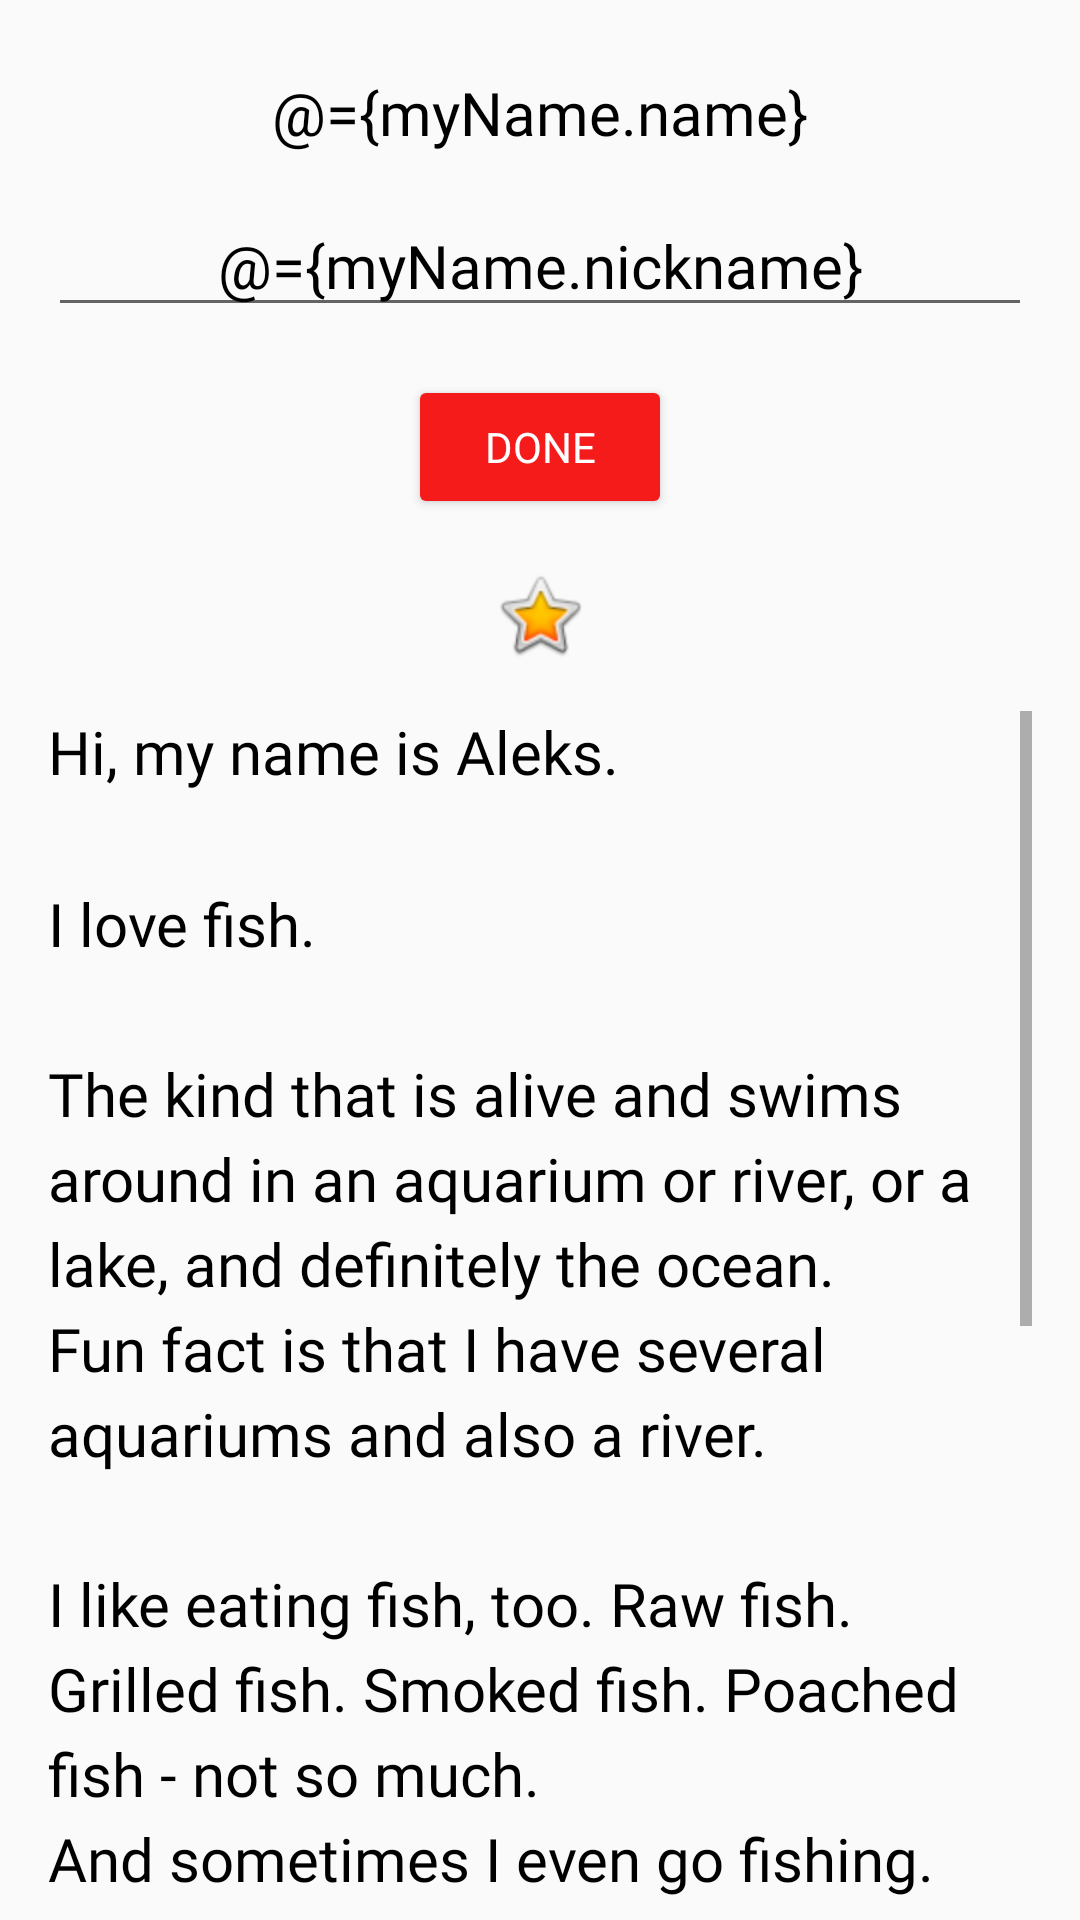

Named icons in this screenshot (1080px x 1920px) and their centers, (x,y):
Yellow star: (541,616)
